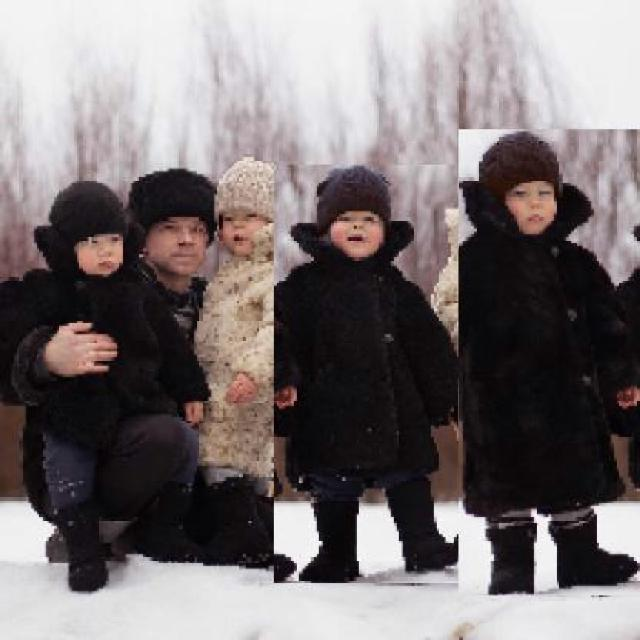child: (273, 165, 482, 584), (2, 177, 212, 594), (457, 129, 640, 597), (196, 154, 324, 560)
